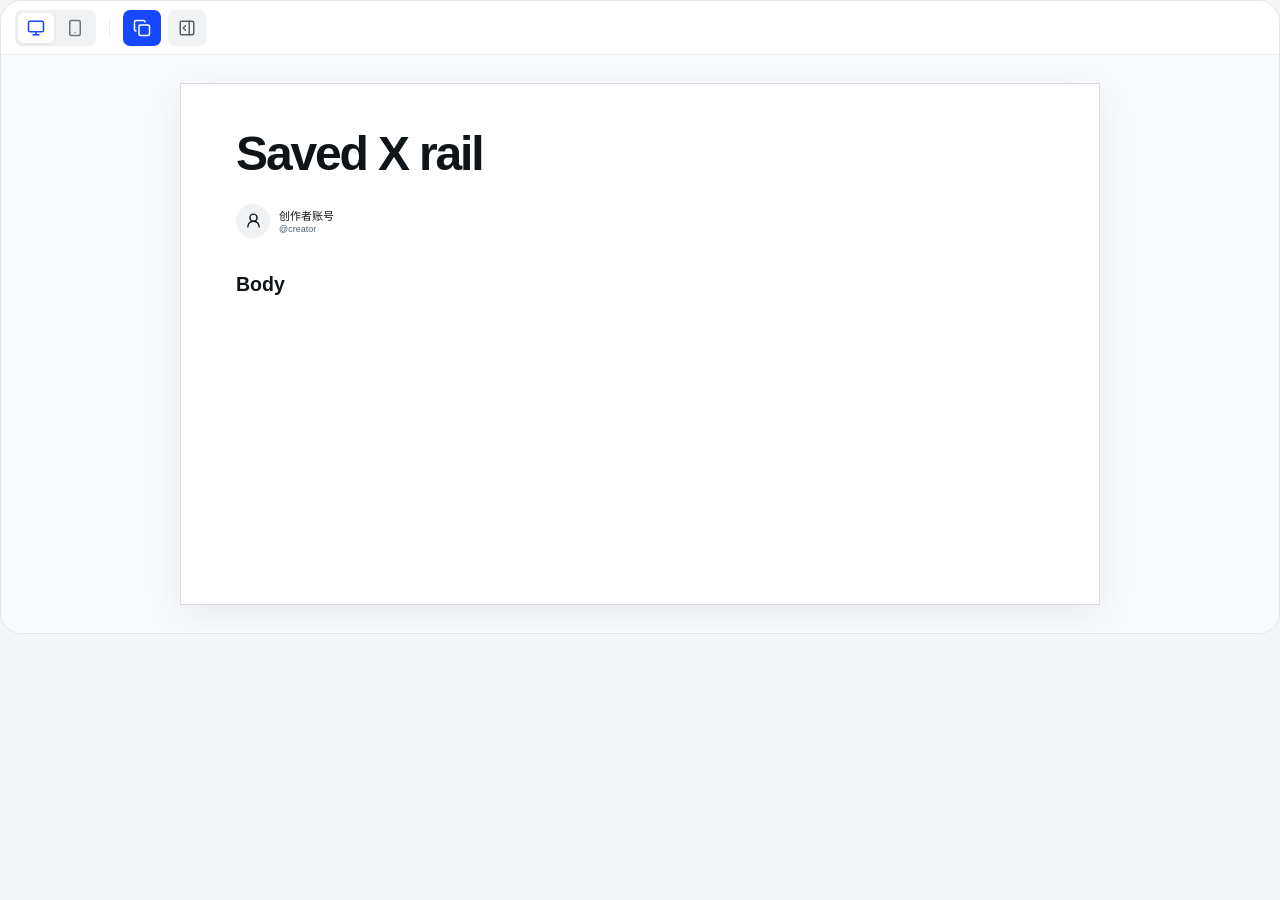
PlatformPreviews editor-to-preview locating › starts with the X drawer closed despite saved expansion and keeps its formatting options
The width and height of the screenshot is (1280, 900).
Click the button named "展开 X 长文排版侧栏" at (187, 28), box [168,10,206,46]
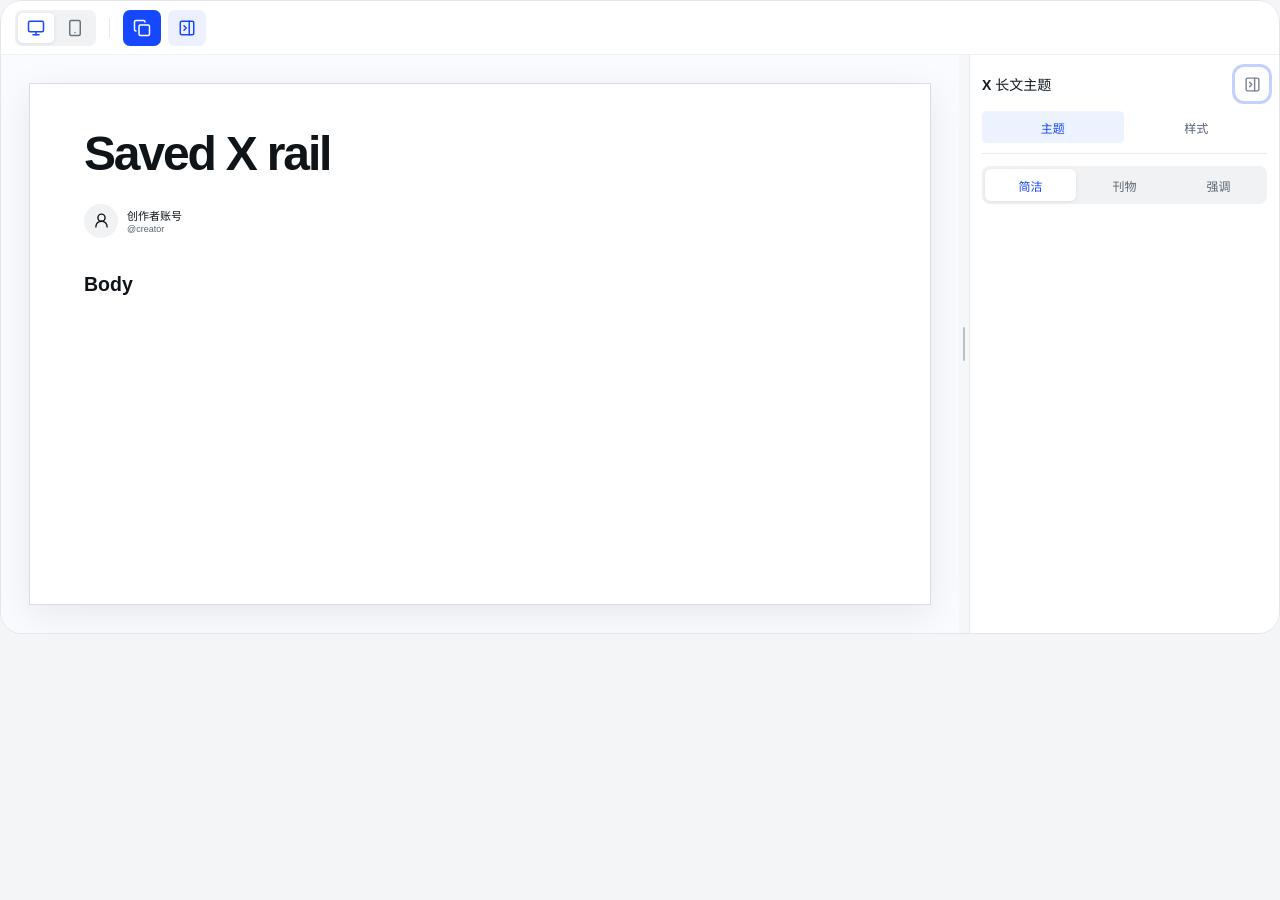
Expected: the number of tabs is 2, [982,111,1124,143]; [1126,111,1267,143]
Expected: the number of radio buttons is 3, [985,169,1076,201]; [1079,169,1170,201]; [1173,169,1264,201]
